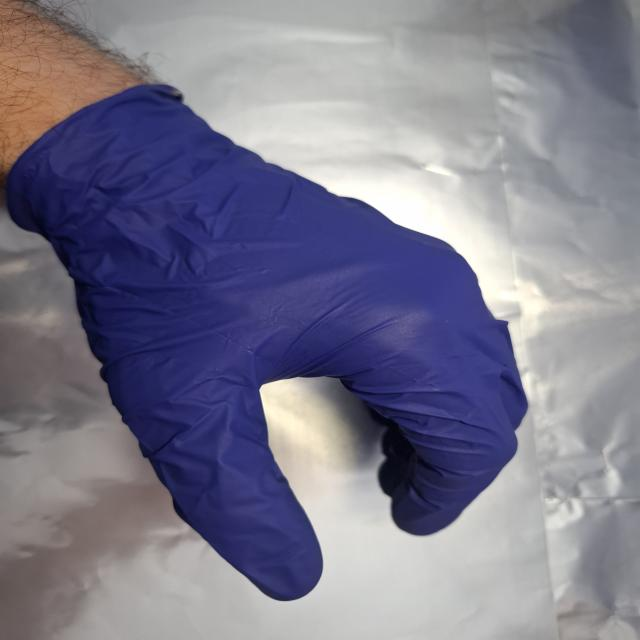glove_on: (4, 79, 534, 605)
